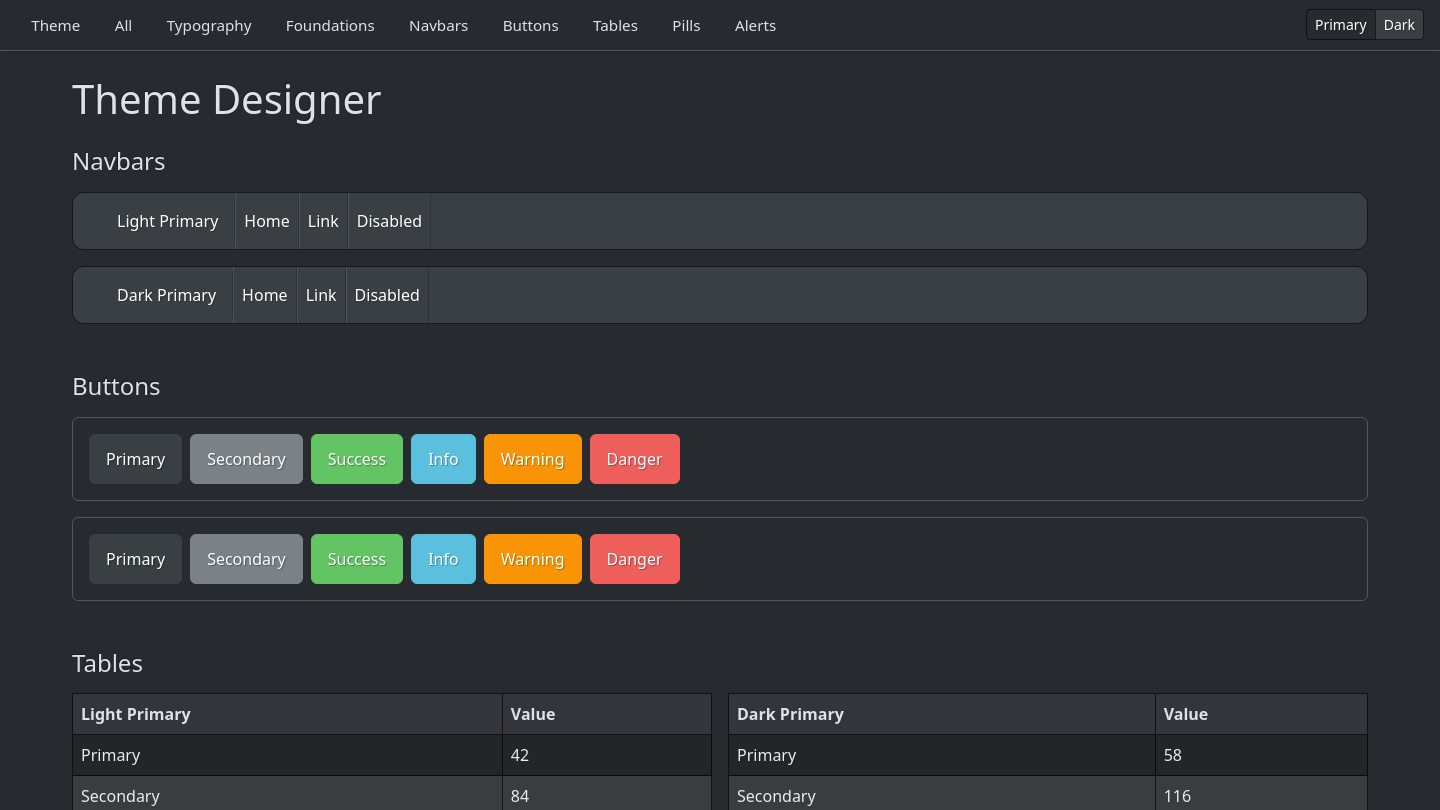
it: ThemeDesigner › disables theme management actions when user only has view access
Click the button "Theme": (56, 25) x1=16 y1=8 x2=96 y2=42
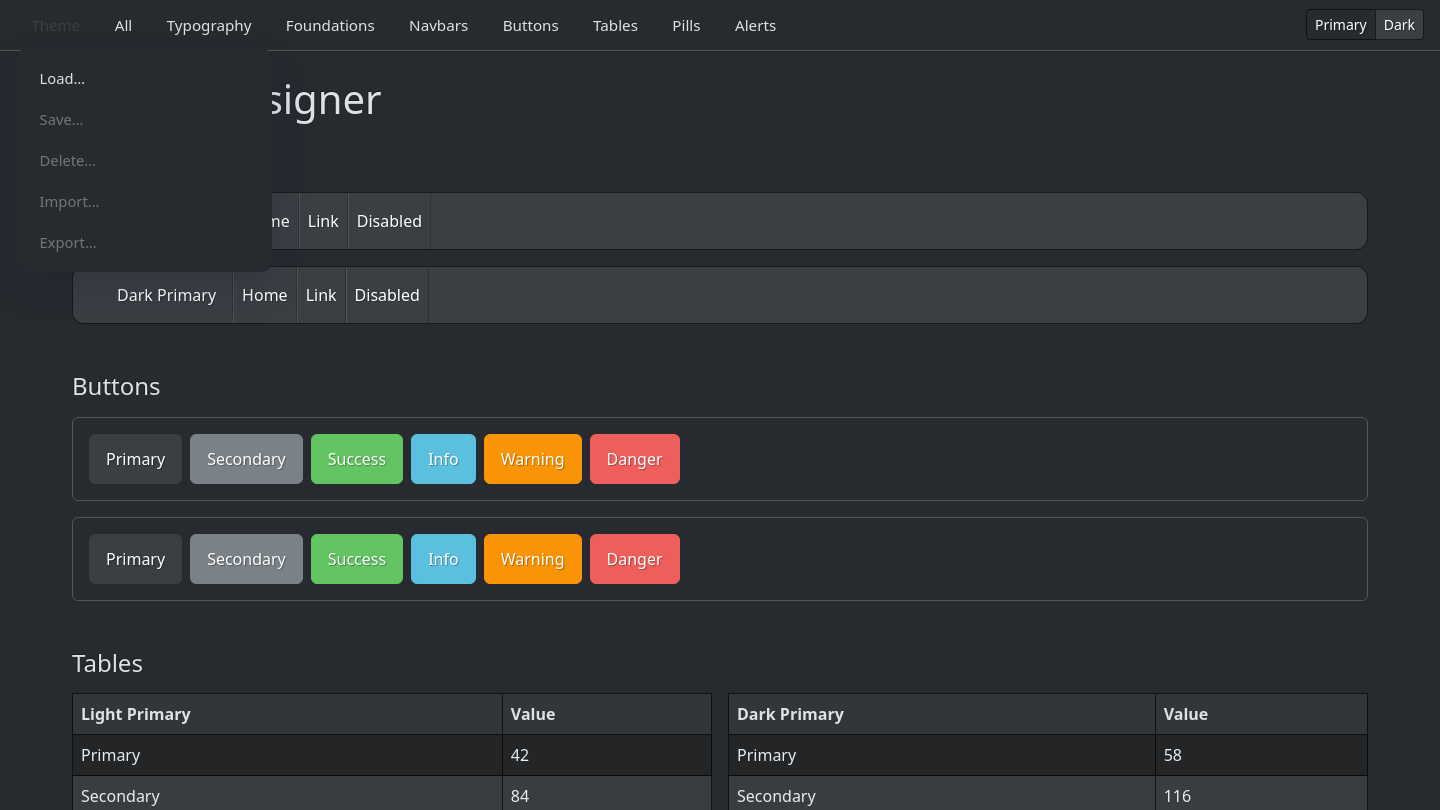
Check: the button "Save…" is disabled, box x1=29 y1=101 x2=259 y2=137
Check: the button "Delete…" is disabled, box x1=29 y1=142 x2=259 y2=178
